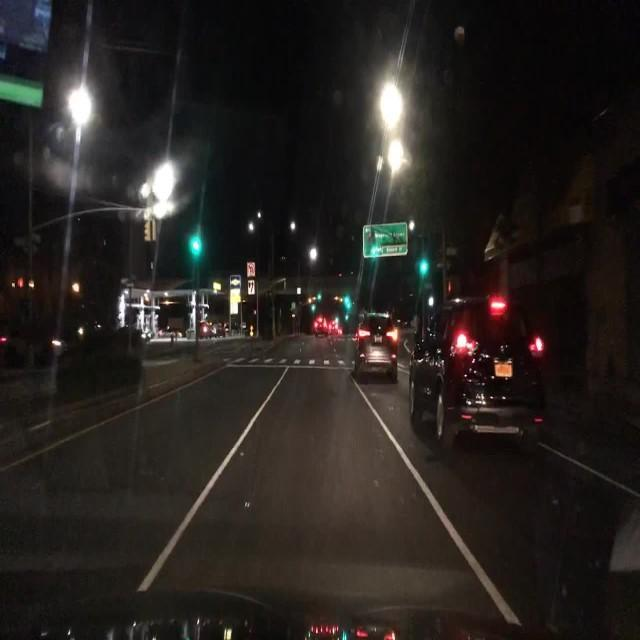normal: (335, 260, 554, 465)
